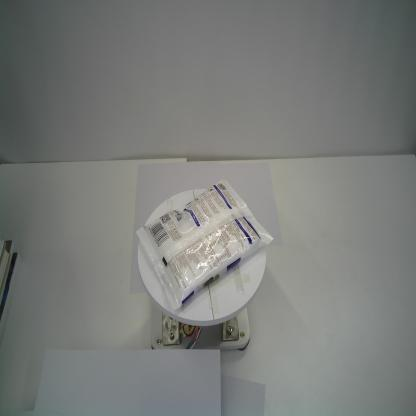Seasoner: (134, 177, 274, 313)
